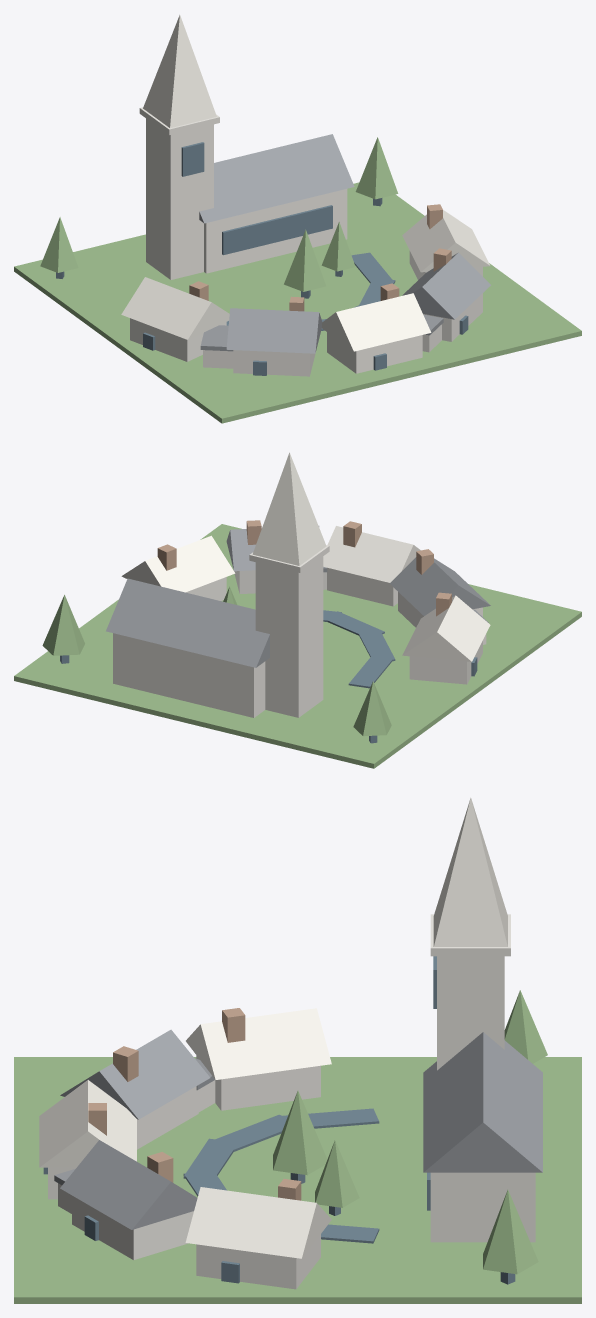
File: town.glb
3 views of the same model, one above another, from view 1: azimuth 30°, elevation 25°; view 2: azimuth 150°, elevation 25°; view 3: azimuth 270°, elevation 25° (orthographic). The views are drawn at different scales.
Visible parts, largest first — view 1: western_modern_town; view 2: western_modern_town; view 3: western_modern_town.
Part boxes in pixels (x1,y1,x2,y2): western_modern_town: (14,15,581,423); western_modern_town: (14,452,581,768); western_modern_town: (14,797,581,1303).
Bounding box in the file's own units: 0.92 × 0.626 × 0.92.
